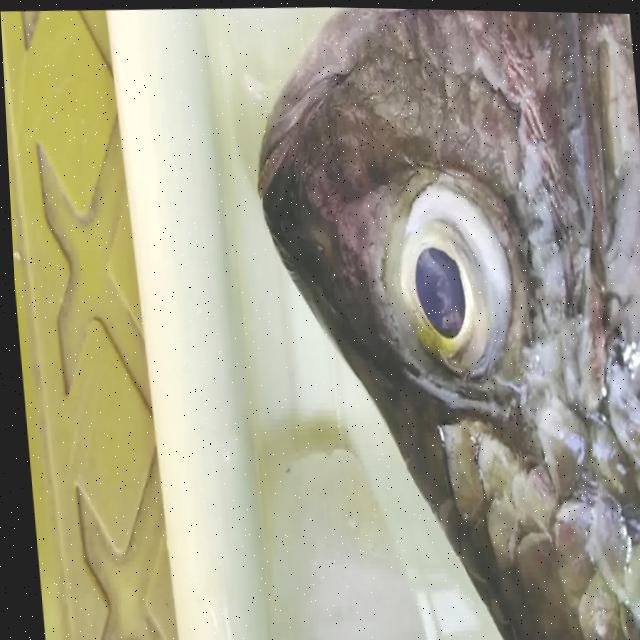Fresh: (365, 134, 541, 437)
